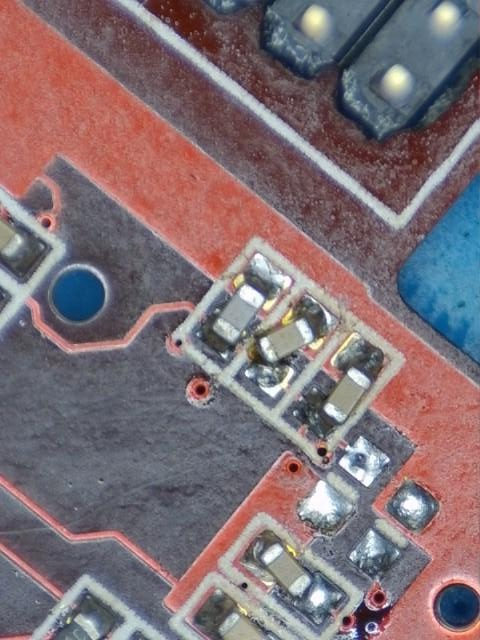pcb_defect: (292, 332, 391, 439), (245, 292, 339, 397), (241, 531, 343, 626)
